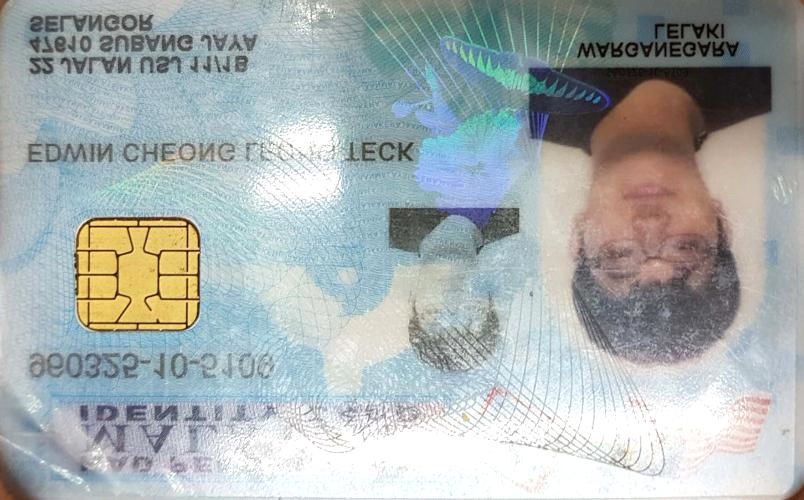hologramB: (412, 6, 529, 205)
